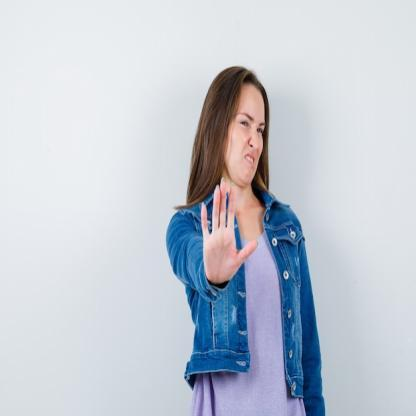stop: (198, 174, 260, 290)
